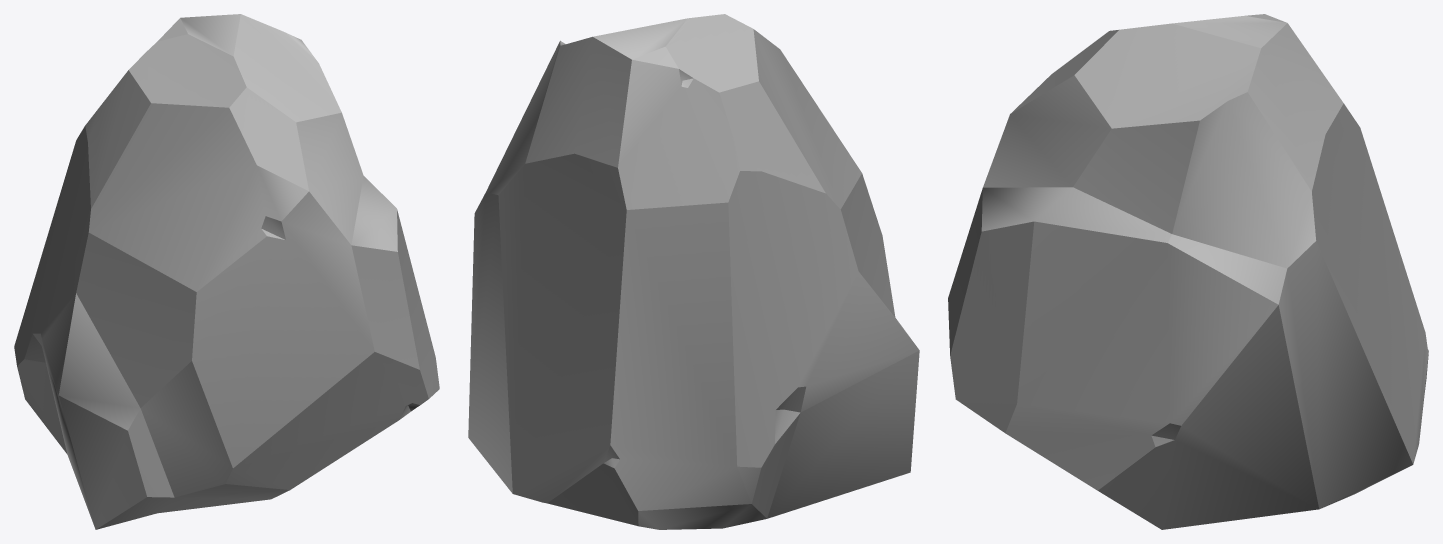
The model's file is SK_Rock_001.FBX.
3 renders of one model, left to right at view 1: azimuth 30°, elevation 25°; view 2: azimuth 150°, elevation 25°; view 3: azimuth 270°, elevation 25°, orthographic. The views are drawn at different scales.
Parts seen in each view (by area): view 1: SK_Rock_001; view 2: SK_Rock_001; view 3: SK_Rock_001.
Part boxes in pixels (<box>): SK_Rock_001: <box>14,14,439,529</box>; SK_Rock_001: <box>468,14,919,529</box>; SK_Rock_001: <box>948,14,1428,529</box>.
Bounding box in the file's own units: 74.9 × 84.18 × 81.98.
1 material, 1 textured.
